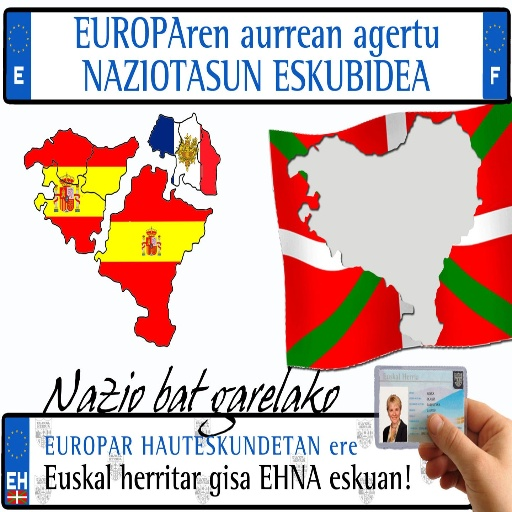hand: (419, 377, 504, 497)
